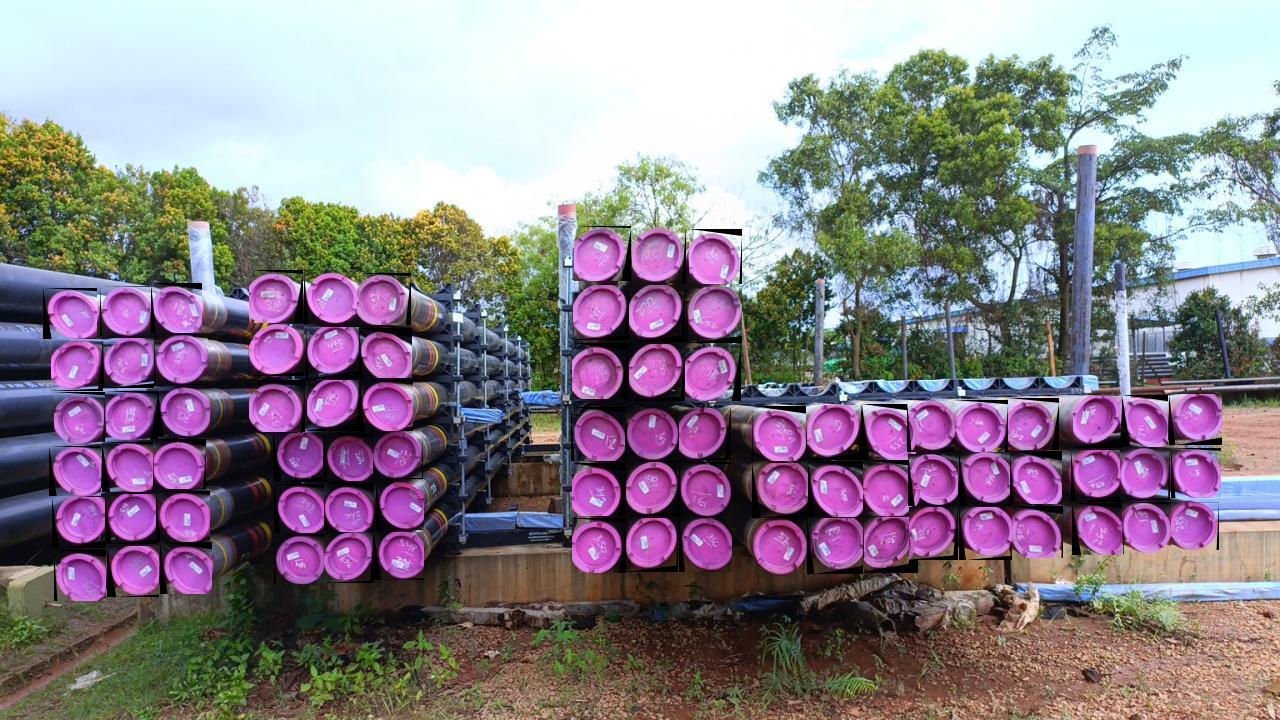pipe: (629, 344, 686, 401), (630, 285, 686, 342), (686, 287, 742, 343), (572, 343, 628, 399), (753, 520, 809, 576), (807, 518, 863, 574), (574, 226, 631, 281), (573, 285, 629, 340), (685, 346, 741, 401), (752, 463, 808, 518), (808, 461, 863, 517), (864, 518, 919, 574), (807, 405, 862, 460), (632, 227, 686, 283), (862, 404, 916, 460), (572, 518, 626, 573), (752, 406, 806, 461), (863, 460, 916, 516), (571, 407, 625, 461), (689, 229, 742, 284), (679, 517, 732, 572), (248, 324, 304, 376), (250, 380, 306, 432), (249, 270, 303, 323), (625, 408, 678, 462), (626, 463, 680, 516), (626, 518, 679, 572), (572, 463, 625, 516), (959, 507, 1012, 560), (358, 273, 412, 325), (959, 452, 1011, 506), (306, 327, 359, 379), (360, 380, 413, 432), (955, 400, 1008, 452), (44, 288, 98, 339), (52, 497, 106, 548), (156, 491, 210, 542), (680, 462, 731, 516), (54, 549, 106, 601), (160, 542, 212, 594), (304, 273, 357, 324), (307, 380, 360, 431), (1011, 451, 1062, 504), (1169, 394, 1222, 445), (154, 335, 208, 385), (54, 392, 105, 444), (108, 546, 160, 597), (680, 408, 731, 460), (1008, 398, 1059, 450), (1012, 506, 1063, 558), (359, 328, 412, 378), (52, 341, 104, 391), (158, 387, 210, 437), (49, 446, 101, 496), (154, 439, 206, 489), (105, 494, 157, 544), (908, 454, 958, 506), (1074, 396, 1124, 448), (1072, 450, 1122, 502), (1120, 448, 1170, 500), (1072, 503, 1122, 555), (909, 507, 958, 560), (151, 283, 202, 333), (103, 338, 154, 388), (102, 442, 153, 492), (274, 534, 325, 584), (324, 532, 374, 583), (106, 391, 158, 440), (100, 286, 150, 336), (1171, 448, 1221, 498), (1123, 502, 1171, 554), (274, 433, 324, 482), (274, 484, 324, 533), (325, 482, 374, 532), (907, 401, 955, 452), (324, 433, 374, 481), (374, 431, 424, 479), (374, 532, 424, 580), (1122, 395, 1168, 447), (376, 481, 424, 530), (1171, 502, 1219, 550)
